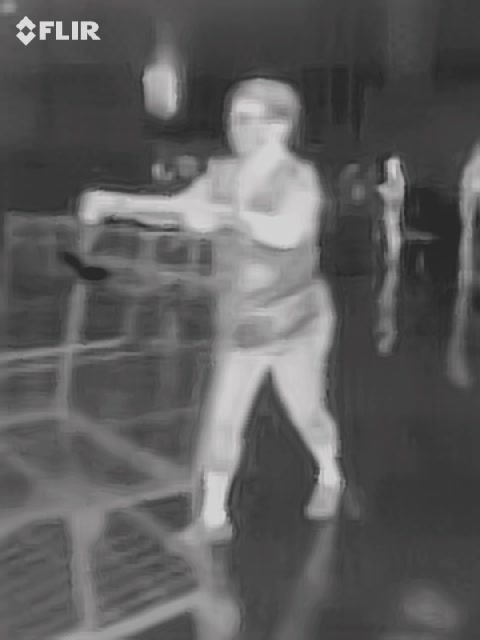head: (224, 78, 301, 160)
